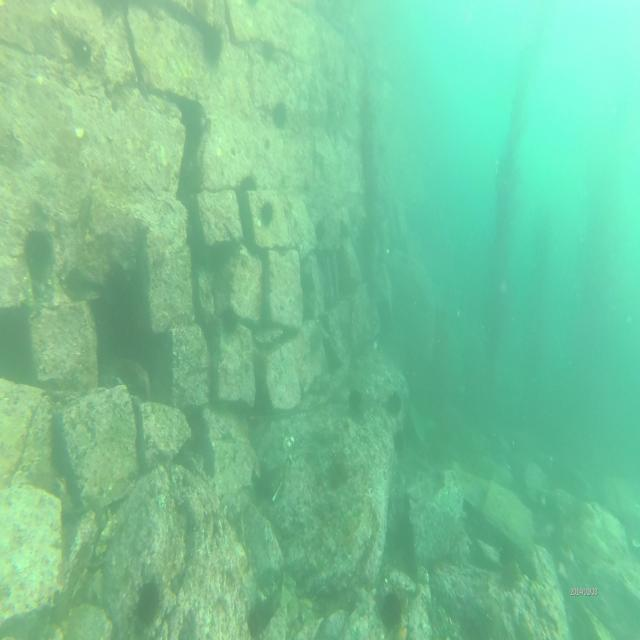echinus: (21, 226, 54, 284), (132, 578, 163, 631), (378, 585, 406, 635), (201, 21, 224, 63), (324, 456, 348, 495), (220, 304, 240, 343), (69, 35, 93, 67), (258, 35, 277, 70), (347, 384, 365, 419), (386, 386, 404, 421), (306, 324, 324, 356), (258, 199, 275, 231), (337, 211, 352, 247), (272, 97, 288, 128), (311, 215, 328, 243)
